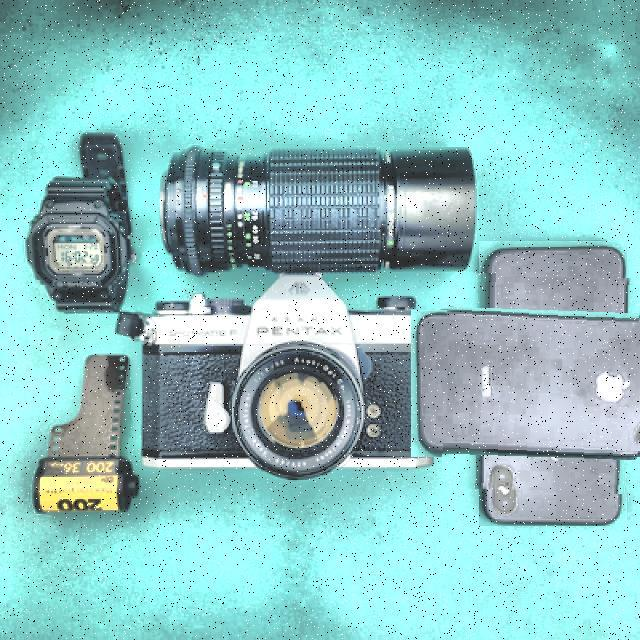Phone: (443, 273, 640, 492)
